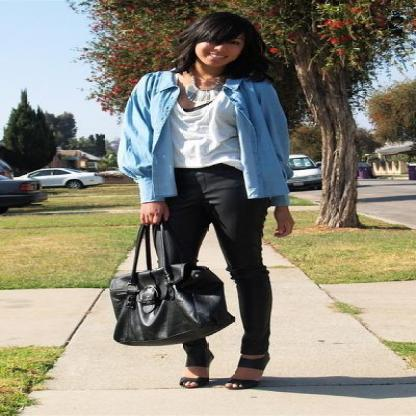bag: (107, 216, 234, 347)
jacket: (112, 68, 305, 216)
pants: (156, 163, 271, 366)
shirt: (146, 83, 247, 174)
shoe: (179, 350, 269, 390)
